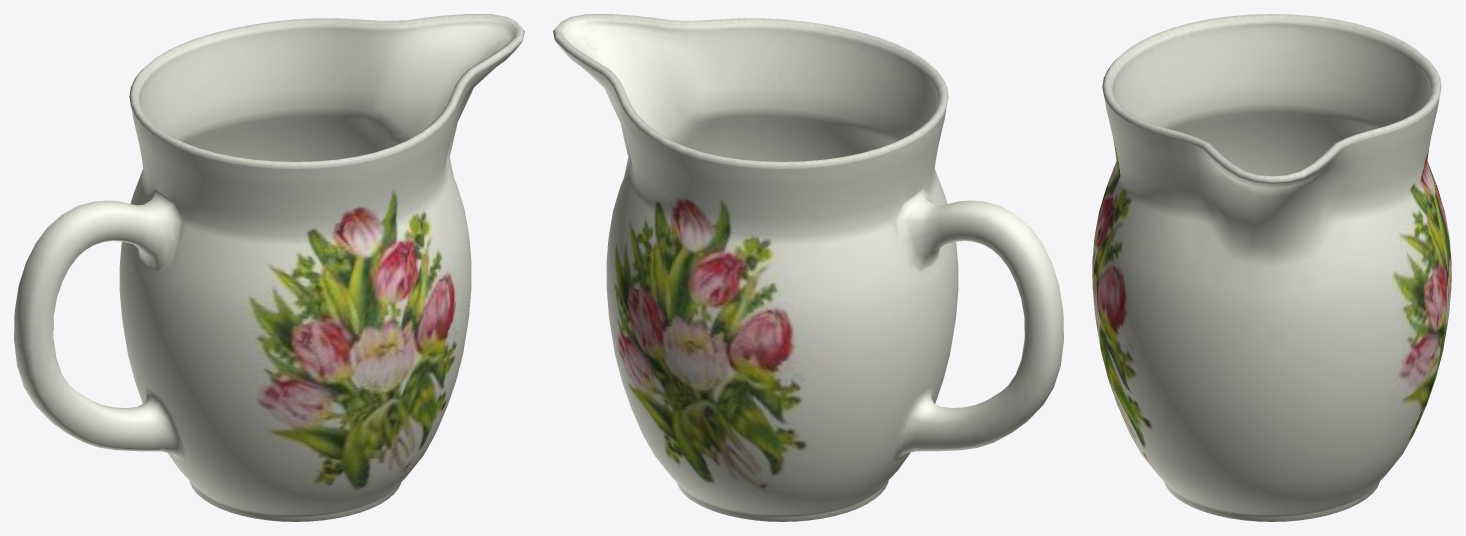
File: ph_jug_01.glb
The picture shows the model from 3 angles, left to right: view 1: azimuth 30°, elevation 25°; view 2: azimuth 150°, elevation 25°; view 3: azimuth 270°, elevation 25°; orthographic projection. The views are drawn at different scales.
Visible parts, largest first — view 1: jug_01; view 2: jug_01; view 3: jug_01.
Part boxes in pixels (x1,y1,x2,y2): jug_01: (14,14,524,521); jug_01: (553,14,1063,521); jug_01: (1092,14,1451,521).
Bounding box in the file's own units: 0.2753 × 0.2113 × 0.1675.
1 material, 1 textured.
